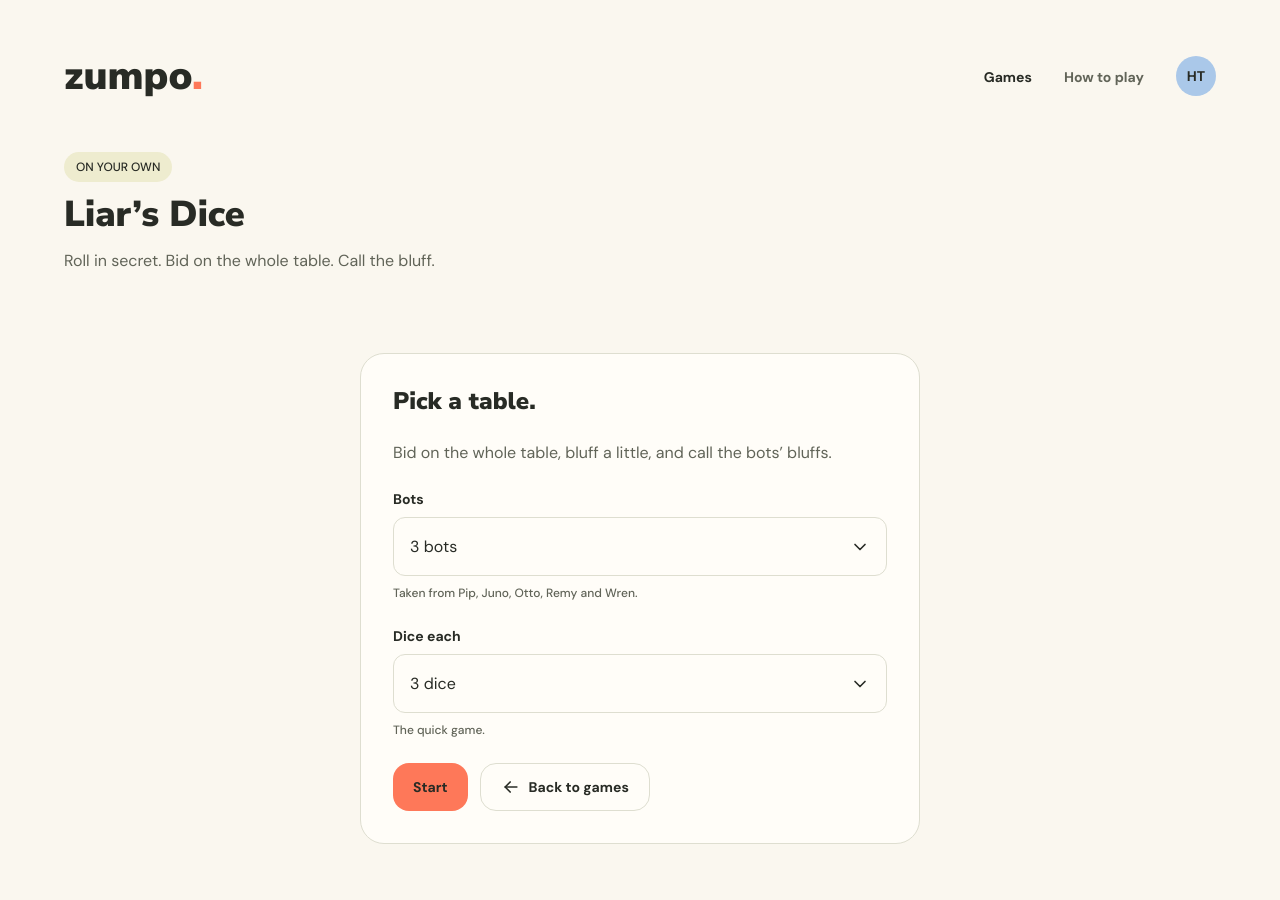
Test: Liar’s Dice on your own › starts at once on a first visit, with three bots and three dice each
expect the heading "Pick a table." is shown: met, box [393, 385, 536, 417]
expect the dropdown labelled "bots" reads "3 bots": met, box [393, 517, 887, 576]
Click the button "Start".
click(430, 787)  # box [393, 763, 468, 811]
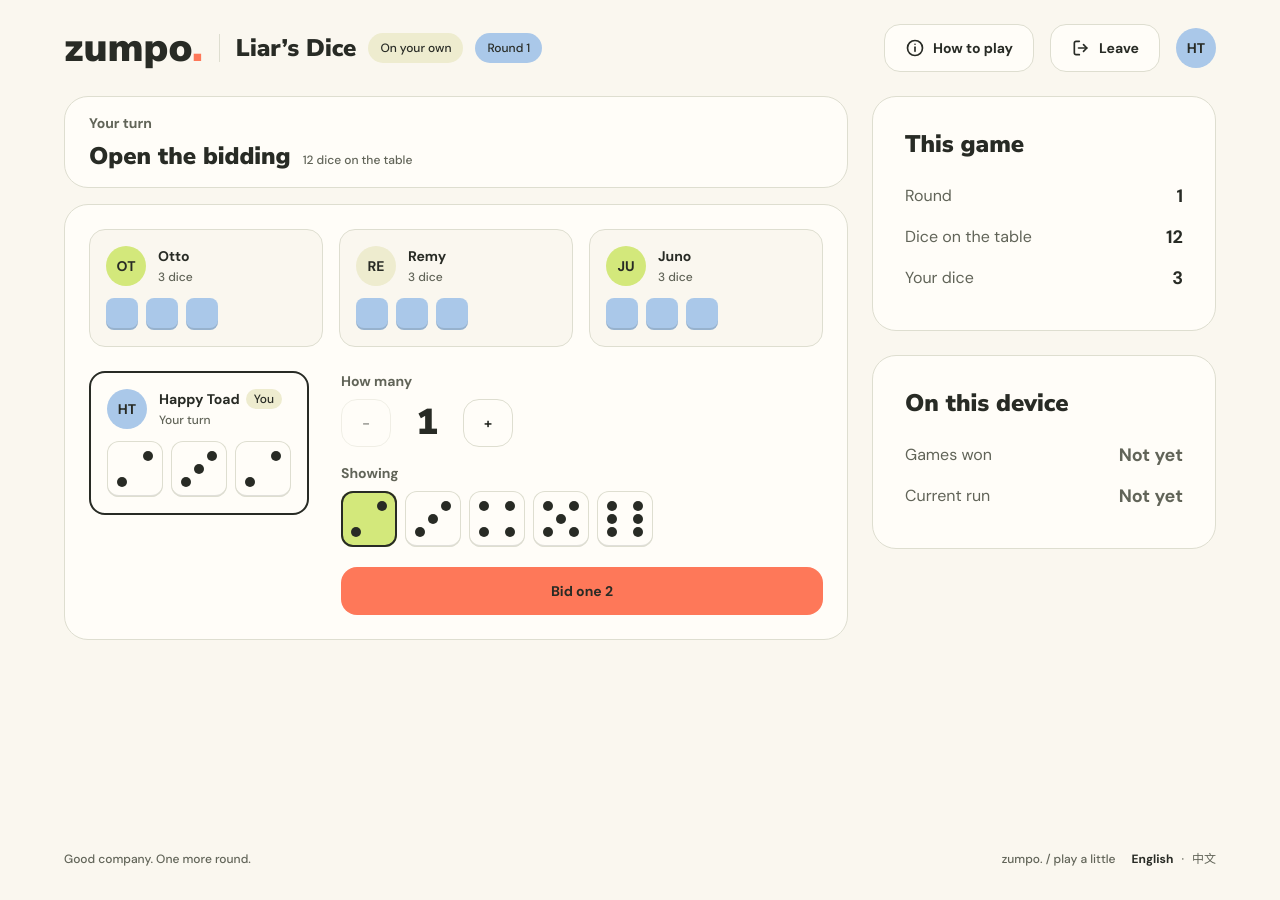
expect the text "Round 1" is shown: met, box [488, 39, 530, 57]
expect the number of elements "OT Otto 3 dice" is 3: met, box [89, 229, 323, 347]; [339, 229, 573, 347]; [589, 229, 823, 347]
expect the number of pictures named "Hidden die" is 3: met, box [106, 298, 138, 330]; [146, 298, 178, 330]; [186, 298, 218, 330]
